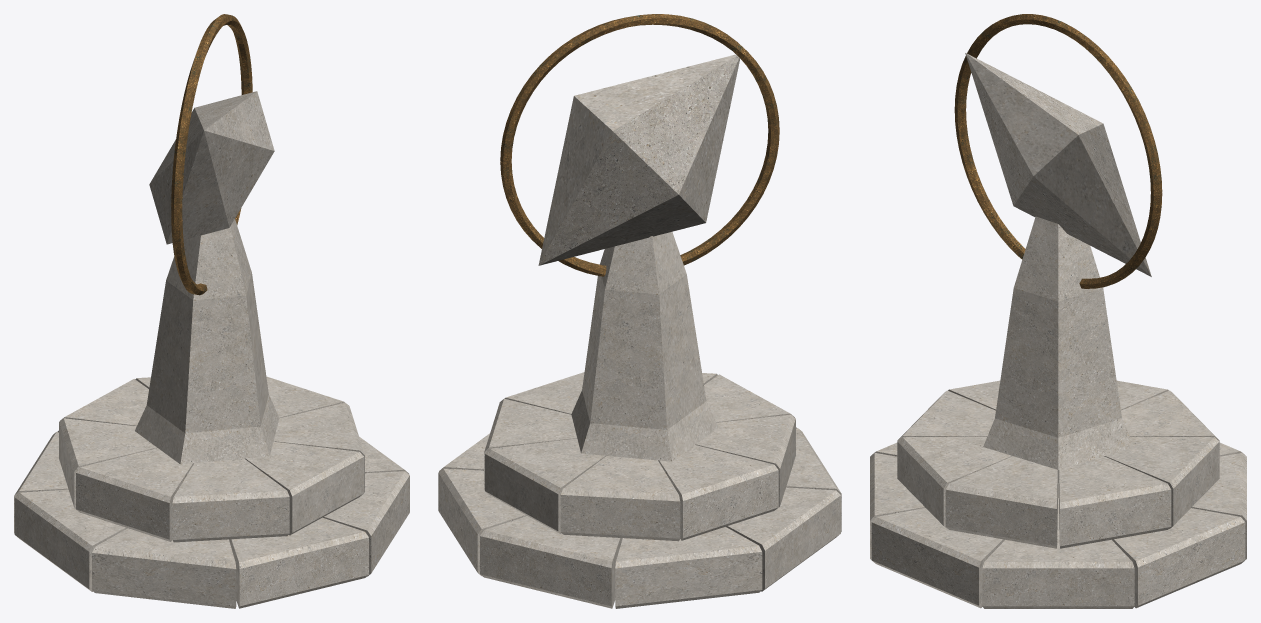
The model's file is moon_halo.glb.
The picture shows the model from 3 angles, left to right: view 1: azimuth 30°, elevation 25°; view 2: azimuth 150°, elevation 25°; view 3: azimuth 270°, elevation 25°; orthographic projection.
Visible parts, largest first — view 1: MoonLampPlinth, MoonLampPatinaPanels, MoonLampCore, MoonLampBronzework; view 2: MoonLampPlinth, MoonLampCore, MoonLampPatinaPanels, MoonLampBronzework; view 3: MoonLampPlinth, MoonLampPatinaPanels, MoonLampCore, MoonLampBronzework.
Boxes of the visible parts, bbox=[...] form: MoonLampPlinth: bbox=[14, 376, 409, 608]; MoonLampPatinaPanels: bbox=[135, 219, 279, 464]; MoonLampCore: bbox=[149, 91, 274, 244]; MoonLampBronzework: bbox=[171, 14, 252, 295]; MoonLampPlinth: bbox=[438, 372, 841, 608]; MoonLampCore: bbox=[538, 54, 740, 265]; MoonLampPatinaPanels: bbox=[571, 232, 718, 461]; MoonLampBronzework: bbox=[500, 14, 779, 276]; MoonLampPlinth: bbox=[870, 380, 1246, 608]; MoonLampPatinaPanels: bbox=[983, 216, 1133, 469]; MoonLampCore: bbox=[965, 53, 1151, 276]; MoonLampBronzework: bbox=[954, 14, 1162, 288].
Size of the model in its own units: 1.52 by 2.27 by 1.52.
3 materials, 3 textured.
